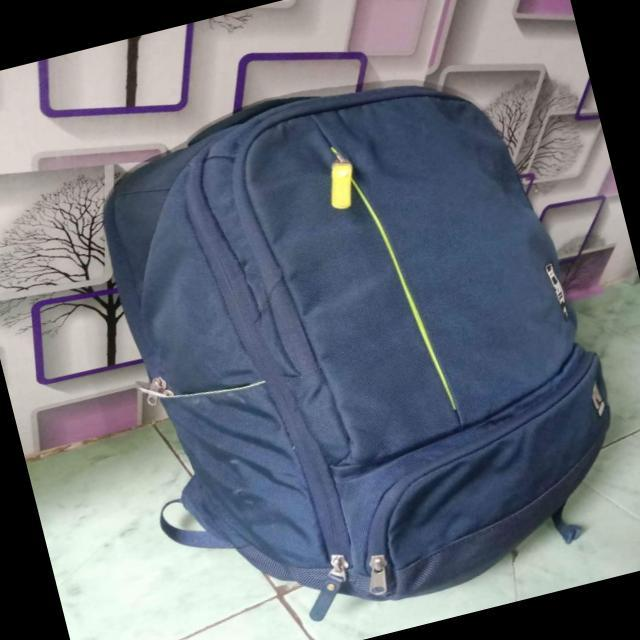bag: (107, 82, 610, 598)
